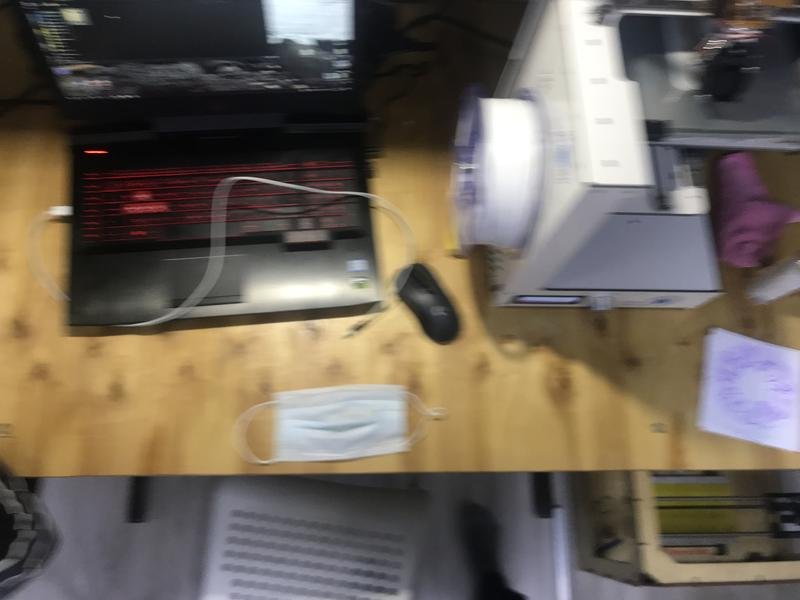medical_mask: (239, 385, 443, 460)
